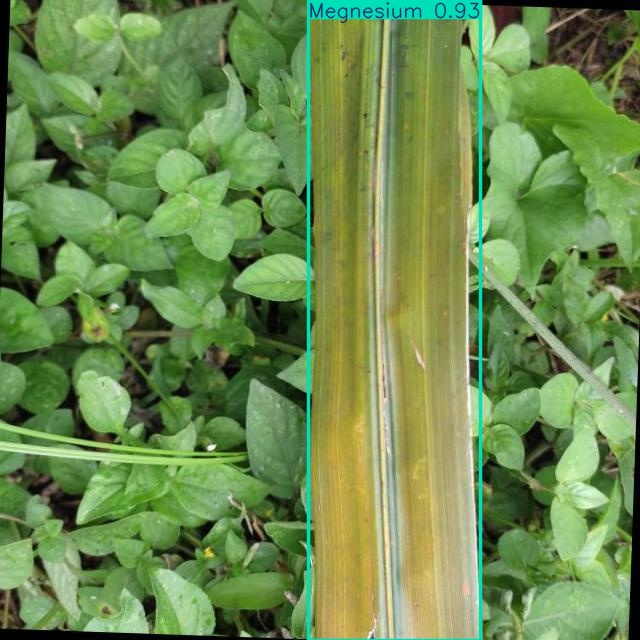Megnesium: (309, 1, 480, 640)
